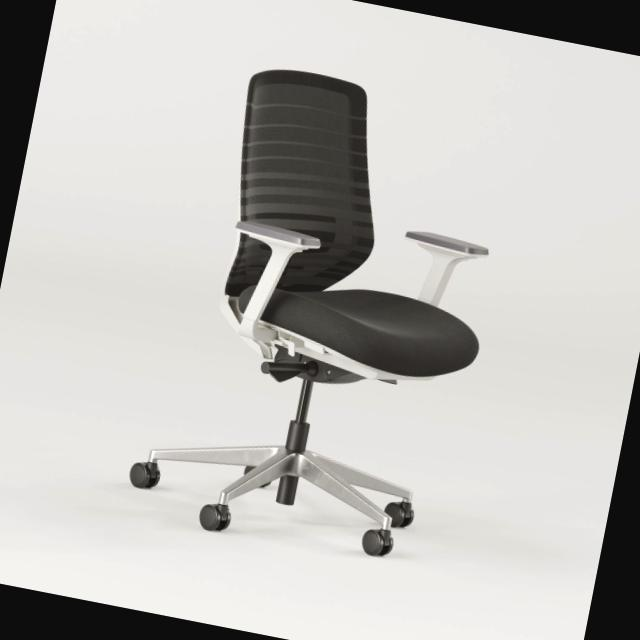obstacle: (58, 6, 551, 630)
